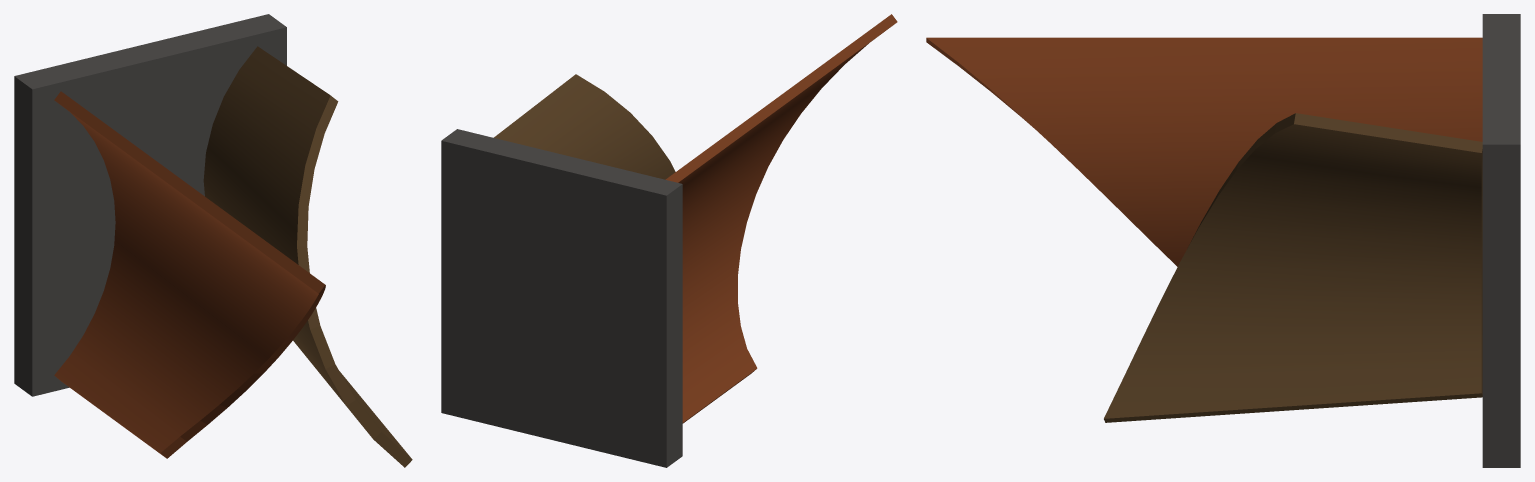
Rendered from sculpture-modern.glb.
The picture shows the model from 3 angles, left to right: view 1: azimuth 30°, elevation 25°; view 2: azimuth 150°, elevation 25°; view 3: azimuth 270°, elevation 25°; orthographic projection. The views are drawn at different scales.
Visible parts, largest first — view 1: sculpture-modern; view 2: sculpture-modern; view 3: sculpture-modern.
Part boxes in pixels (left/top/right/bottom): sculpture-modern: left=14, top=14, right=412, bottom=467; sculpture-modern: left=441, top=14, right=897, bottom=467; sculpture-modern: left=926, top=14, right=1520, bottom=467.
Size of the model in its own units: 1.3 by 1.54 by 2.5.
